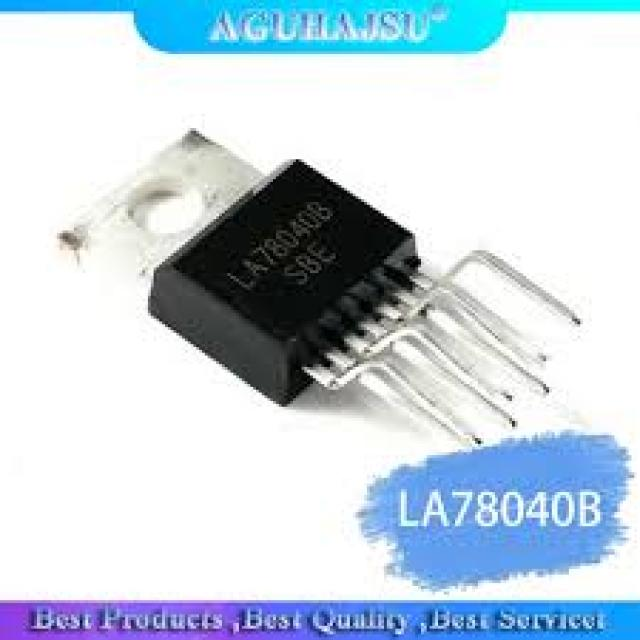Transistor: (39, 112, 587, 434)
